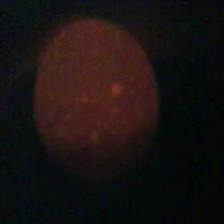fertile: (28, 16, 160, 179)
